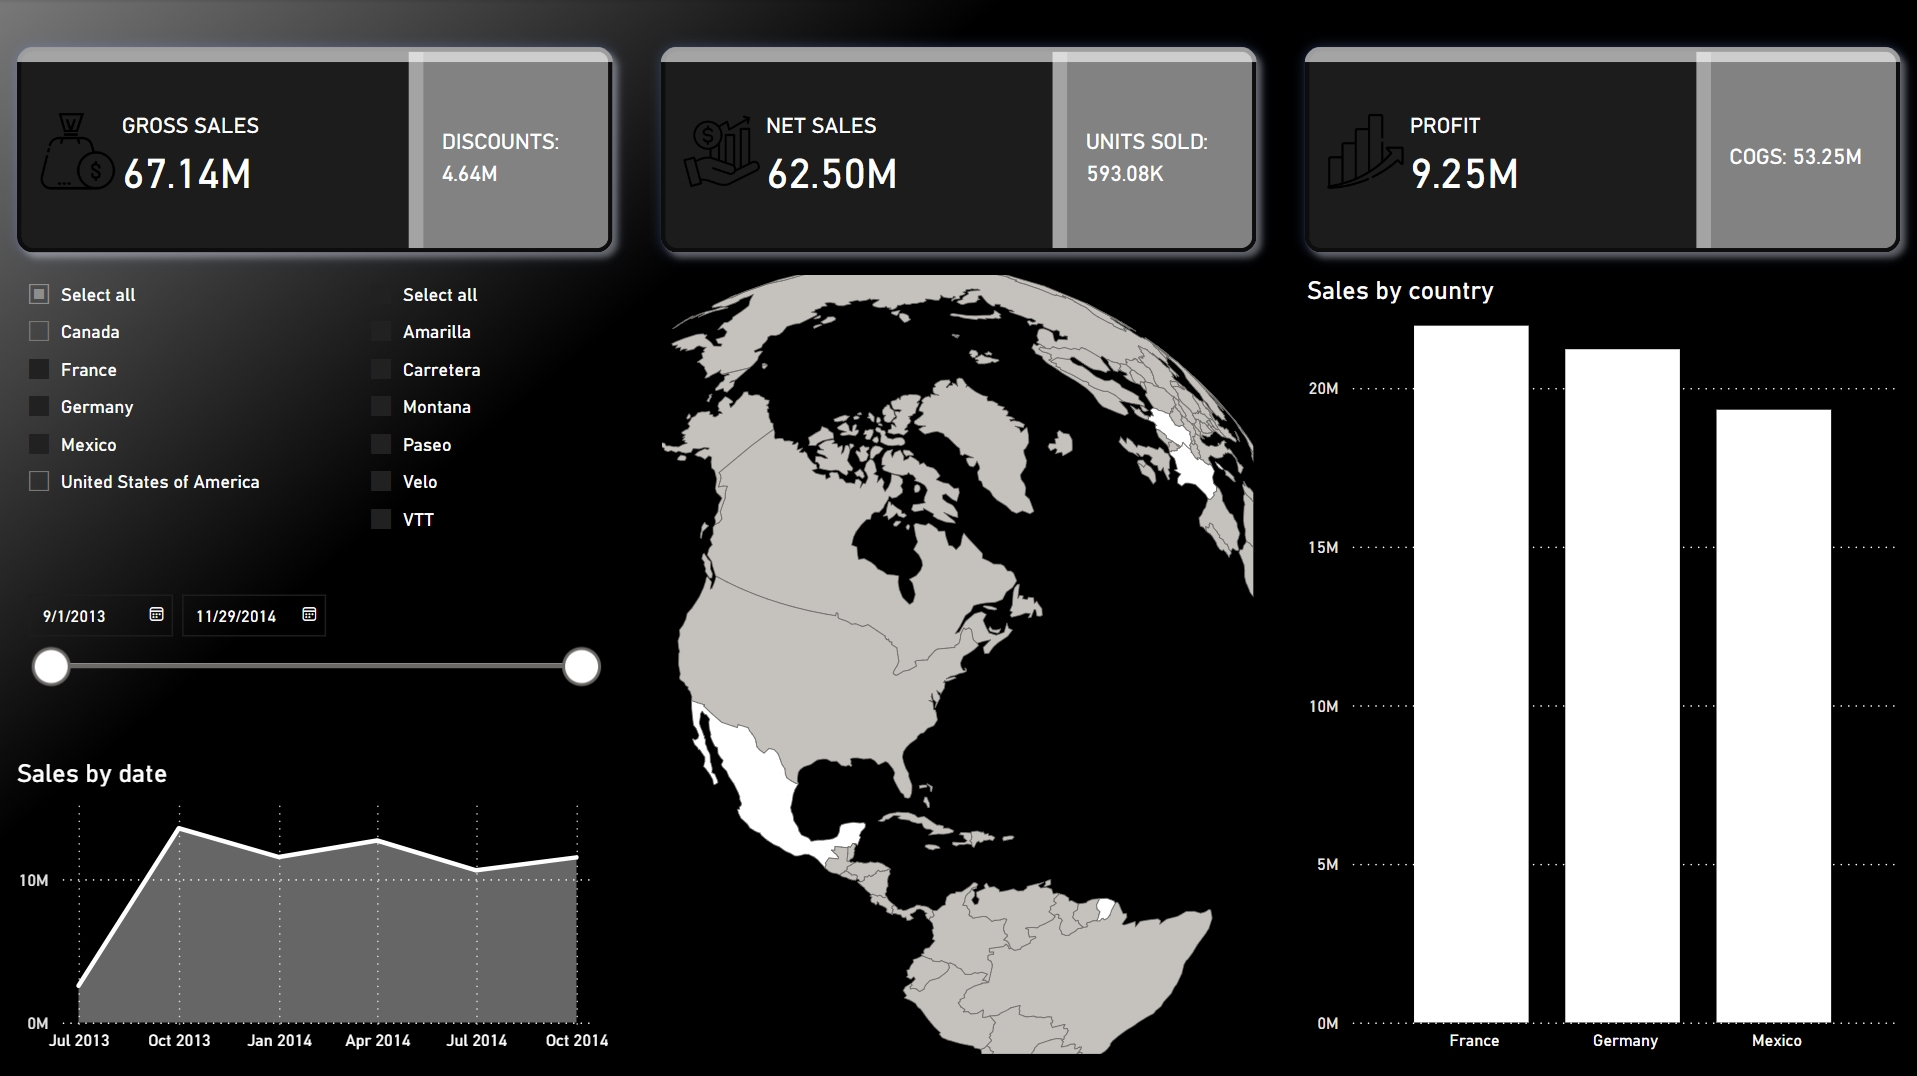

The page's visual inventory and layout, read from the dashboard file:
{"tool":"powerbi","page":{"name":"Page 1","canvas":[1280,720],"ordinal":0},"visuals":[{"type":"shapeMap","fields":{"Category":["financials.Country"]},"box":[441.8,183.9,393.8,519.1],"z":0},{"type":"slicer","fields":{"Values":["financials.Country"]},"box":[12,183.9,199.9,195.2],"z":1000},{"type":"slicer","fields":{"Values":["financials.Date"]},"box":[12,391.8,393.8,103.9],"z":2000},{"type":"slicer","fields":{"Values":["financials.Product"]},"box":[239.9,183.9,165.9,195.2],"z":3000},{"type":"cardVisual","fields":{"Data":["Sum(financials.Gross Sales)","Sum(financials. Sales)","Sum(financials.Profit)"]},"box":[0,0,1280,201.9],"z":4000},{"type":"areaChart","title":"Sales by date","fields":{"Category":["financials.Date.Variation.Date Hierarchy.Year","financials.Date.Variation.Date Hierarchy.Quarter"],"Y":["Sum(financials. Sales)"]},"box":[12,505.7,393.8,197.2],"z":5000},{"type":"clusteredColumnChart","title":"Sales by country","fields":{"Y":["Sum(financials. Sales)"],"Category":["financials.Country"]},"box":[871.5,183.9,393.8,519.1],"z":5001}]}

Visuals, with their boxes in screenshot pixels (x1, y1, x2, y2), scaled from the page's 1280x720 canvas onto the 1917x1076 screenshot:
shapeMap - financials.Country: (662, 275, 1251, 1051)
slicer - financials.Country: (18, 275, 317, 567)
slicer - financials.Date: (18, 586, 608, 741)
slicer - financials.Product: (359, 275, 608, 567)
cardVisual - Sum(financials.Gross Sales) x Sum(financials. Sales): (0, 0, 1916, 302)
"Sales by date" areaChart: (18, 756, 608, 1050)
"Sales by country" clusteredColumnChart: (1305, 275, 1895, 1051)
